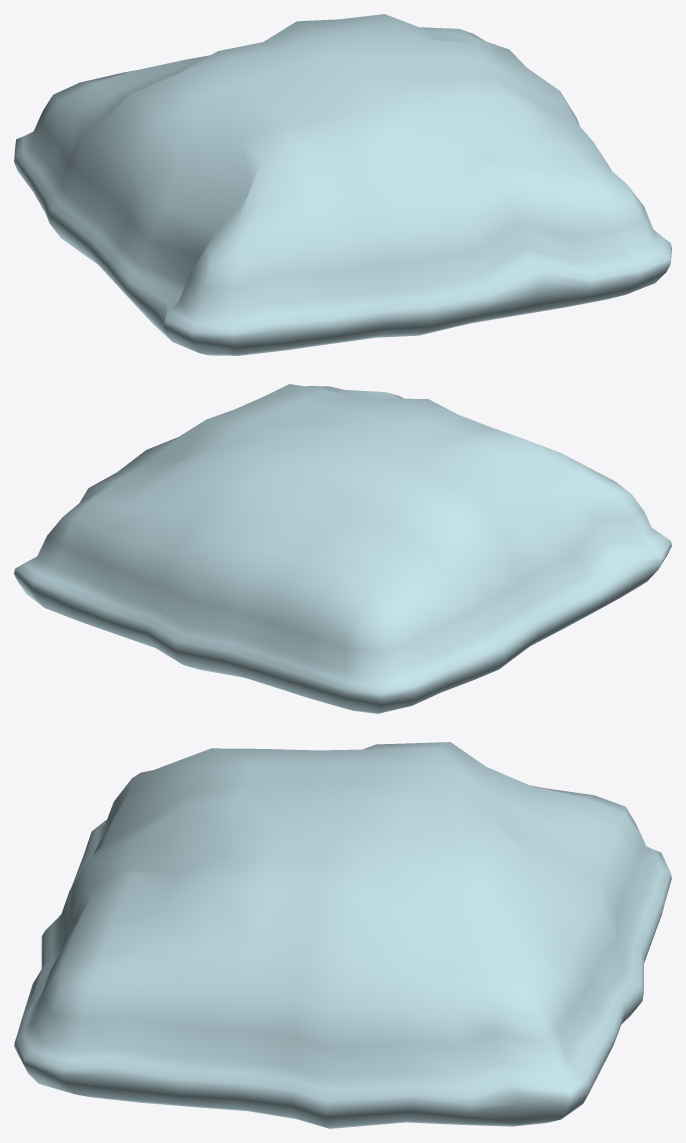
Rendered from Cushion.glb.
3 views of the same model, one above another, from view 1: azimuth 30°, elevation 25°; view 2: azimuth 150°, elevation 25°; view 3: azimuth 270°, elevation 25° (orthographic). The views are drawn at different scales.
Visible parts, largest first — view 1: Cube.006; view 2: Cube.006; view 3: Cube.006.
Boxes of the visible parts, box(x1,y1,x2,y2) form: Cube.006: box(14, 14, 671, 355); Cube.006: box(14, 384, 671, 713); Cube.006: box(14, 742, 671, 1128).
Size of the model in its own units: 0.4627 by 0.1687 by 0.4533.
